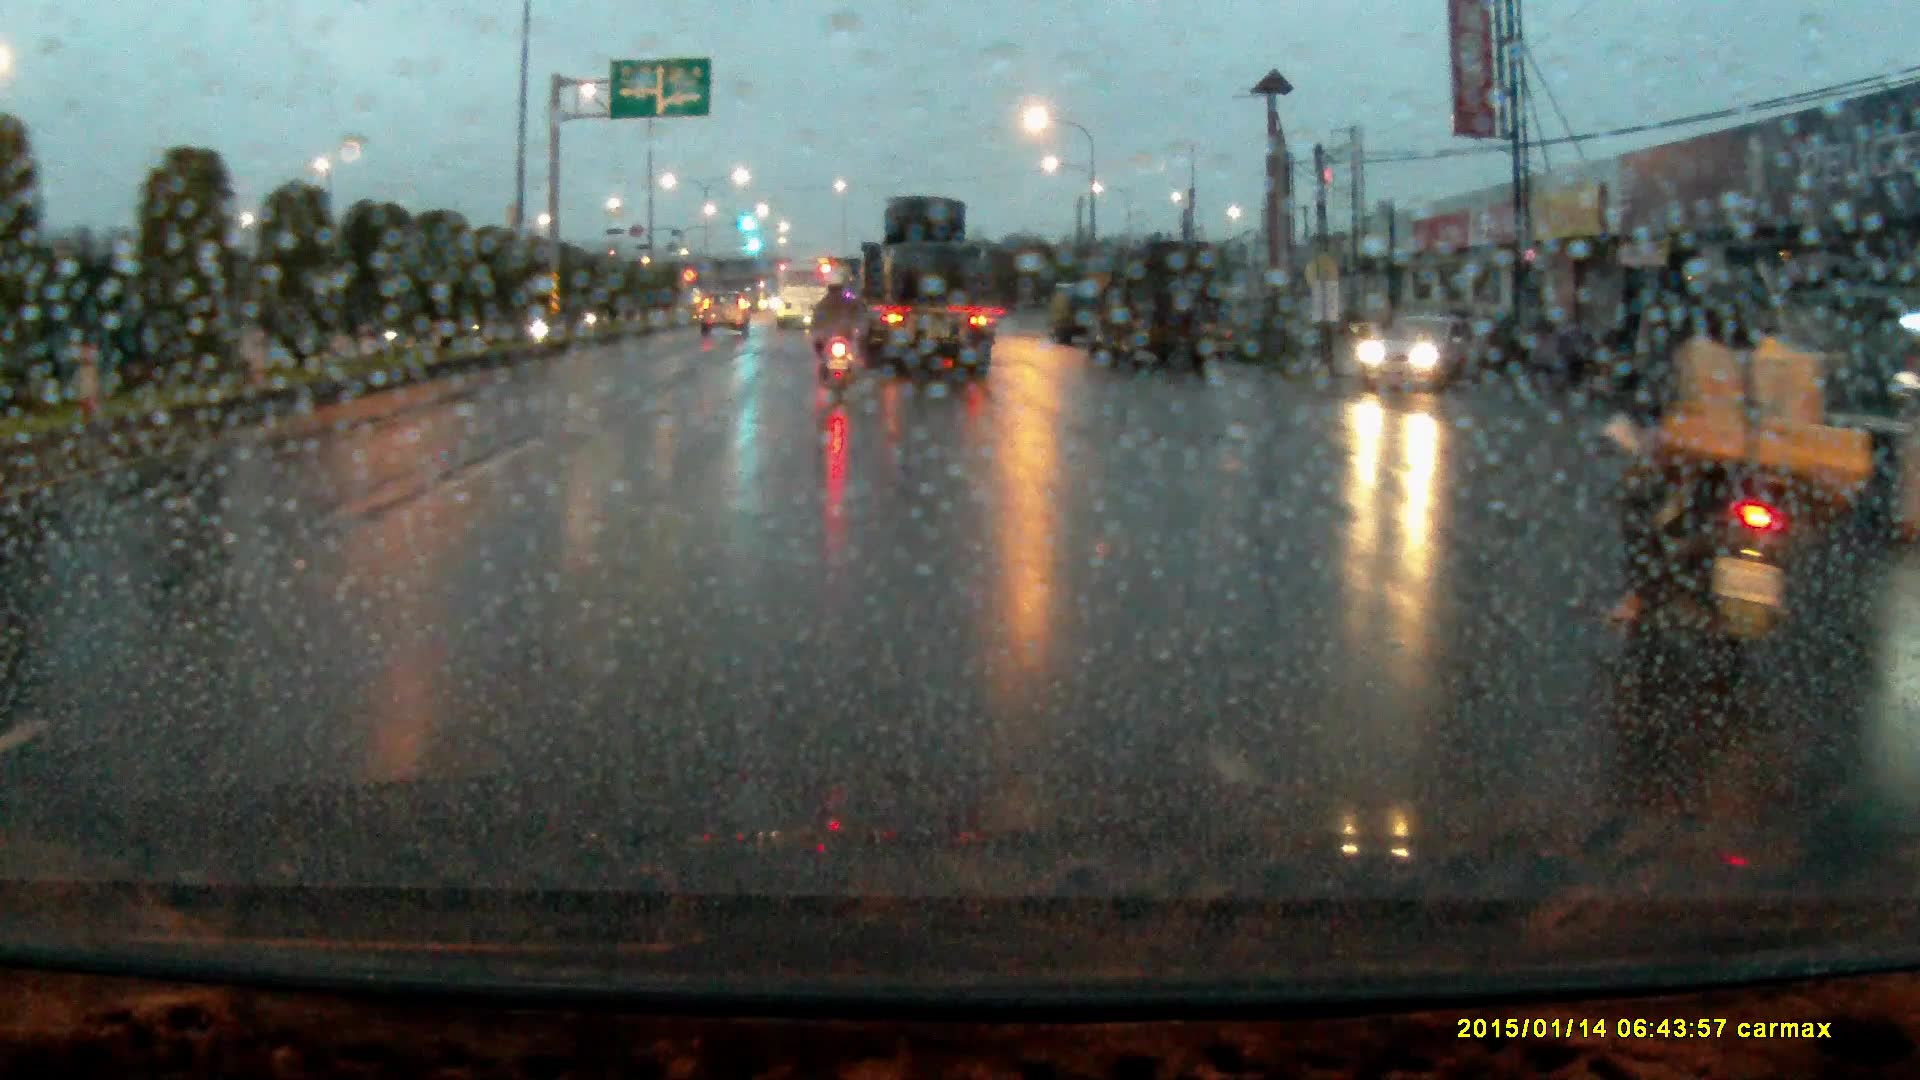rider: (1595, 249, 1884, 669), (812, 272, 868, 399)
vehicle: (851, 196, 990, 376), (1095, 238, 1235, 374), (1357, 314, 1486, 396), (778, 263, 842, 329), (1050, 281, 1101, 343), (701, 290, 752, 340)
